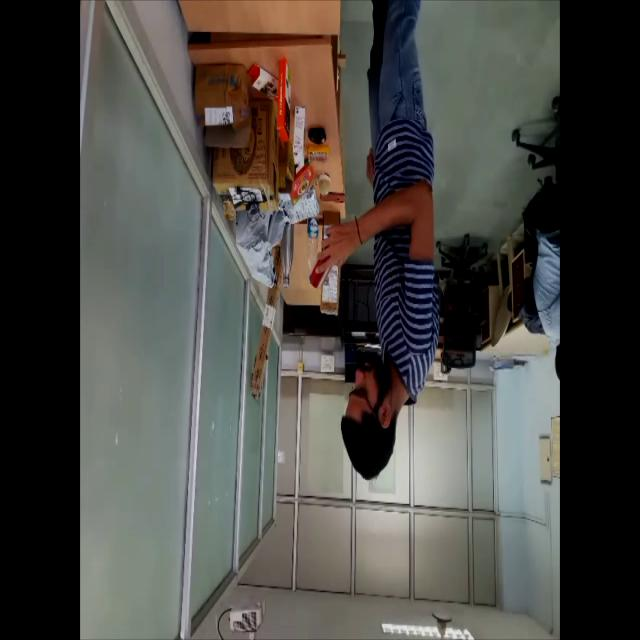normal: (308, 0, 446, 481)
